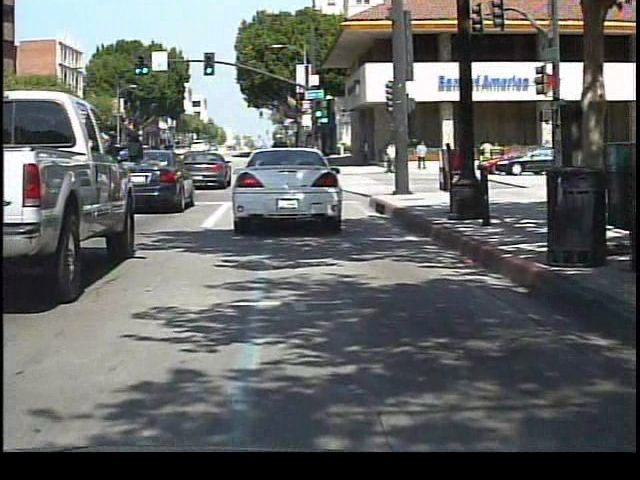person: (477, 136, 496, 171), (383, 139, 399, 175), (414, 138, 431, 171)
